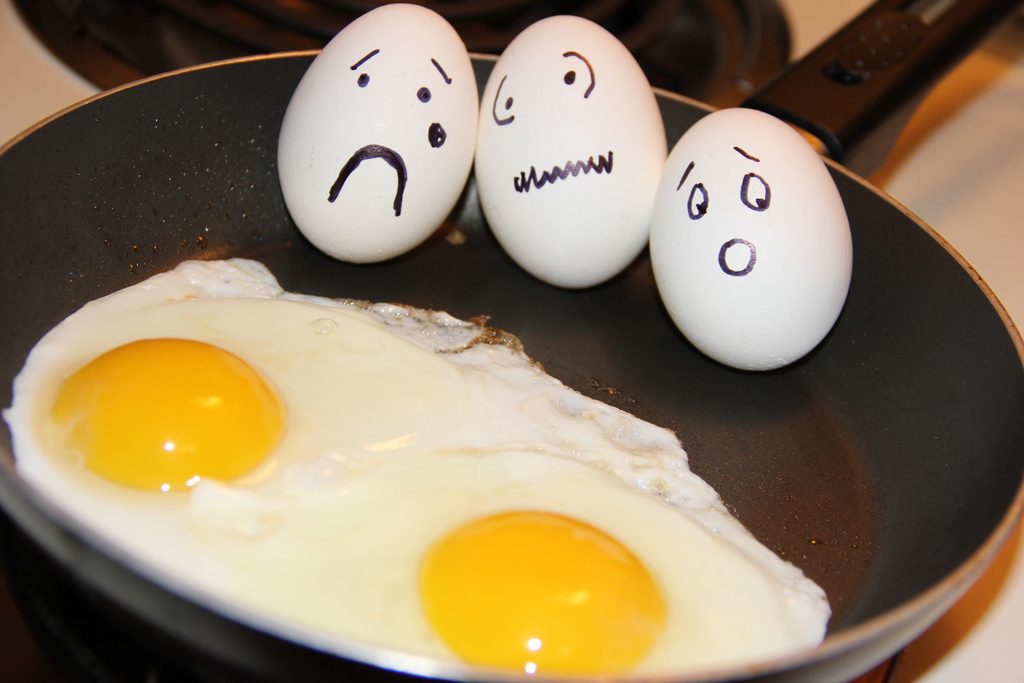fried egg: (6, 282, 515, 503), (231, 502, 819, 669)
